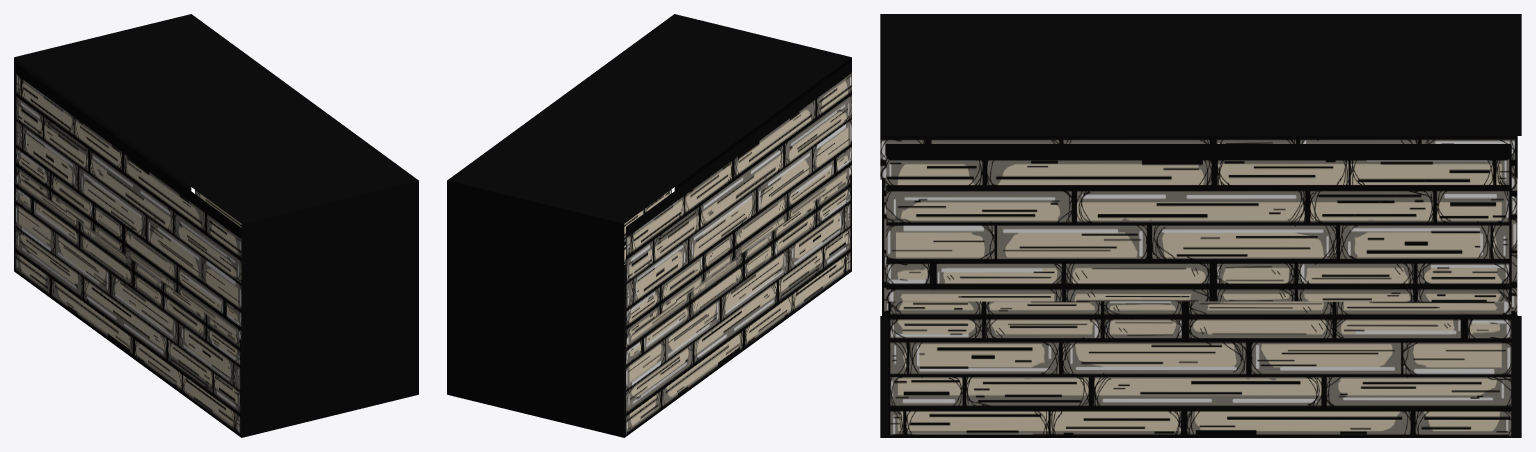
The model's file is muro3.fbx.
3 renders of one model, left to right at view 1: azimuth 30°, elevation 25°; view 2: azimuth 150°, elevation 25°; view 3: azimuth 270°, elevation 25°, orthographic. The views are drawn at different scales.
Parts seen in each view (by area): view 1: pCube5; view 2: pCube5; view 3: pCube5.
Part boxes in pixels (<box>): pCube5: <box>14,14,418,437</box>; pCube5: <box>447,14,851,437</box>; pCube5: <box>880,14,1521,437</box>.
Bounding box in the file's own units: 1 × 1.15 × 2.22.
